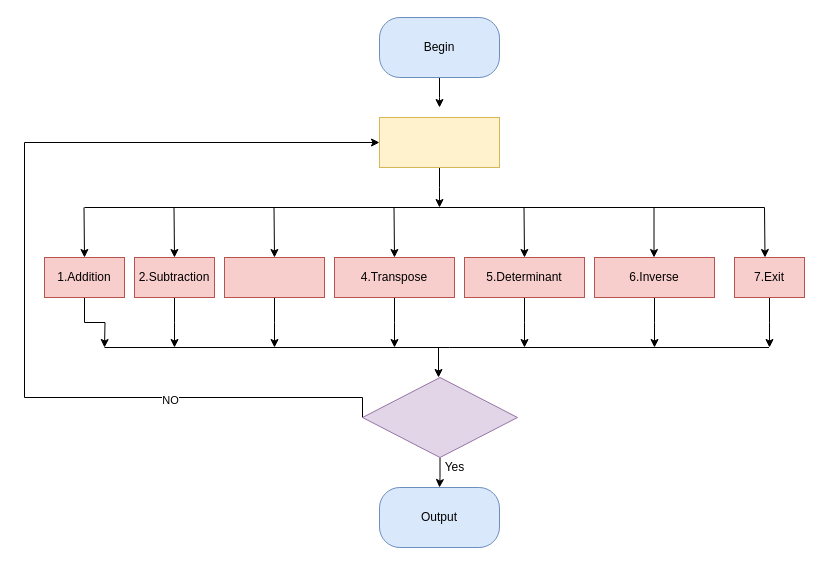
This 822x565 diagram has some shape labels left out. Here are the shapes that lost their labels. From the top down, the box of each, then its label:
(378, 116, 500, 168): Choice Selection: Select from 1 to 7
(224, 256, 324, 298): 3.Multiplication
(362, 376, 518, 458): Select operation if(1-7):
